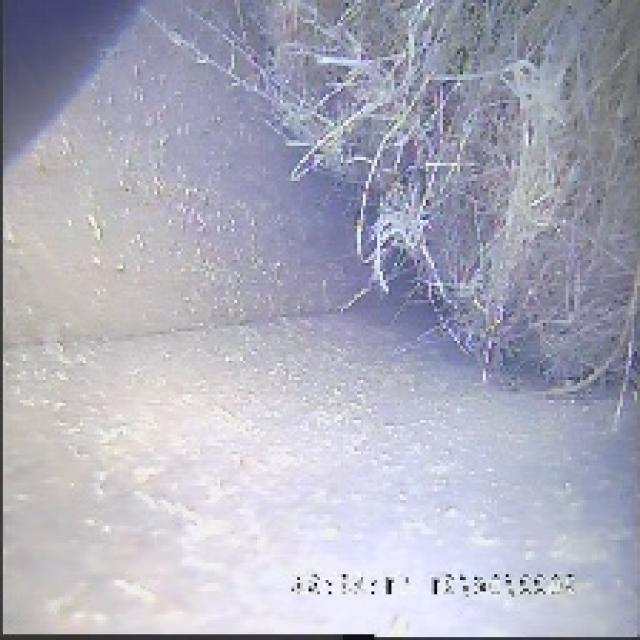Root_blockage: (268, 6, 606, 403)
